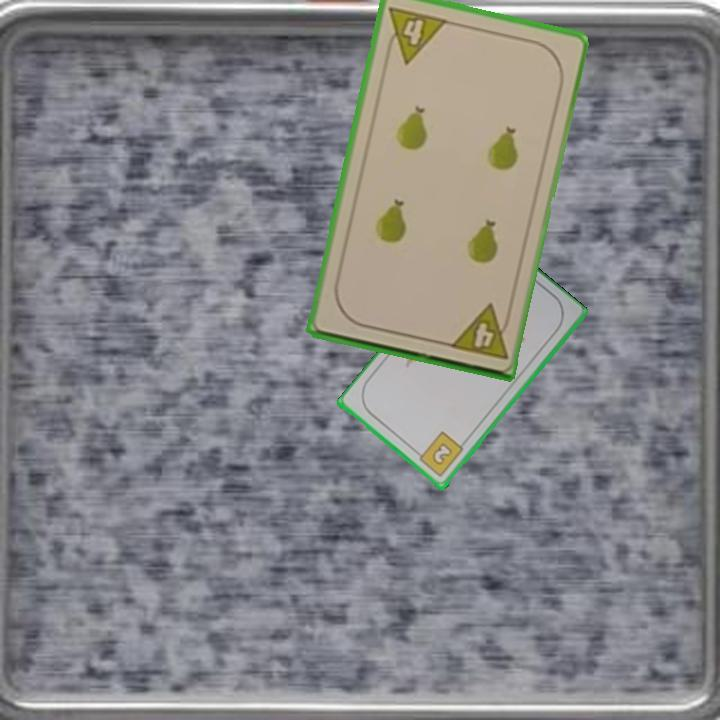2b: (412, 428, 466, 480)
4p: (380, 2, 450, 67), (446, 301, 514, 362)
